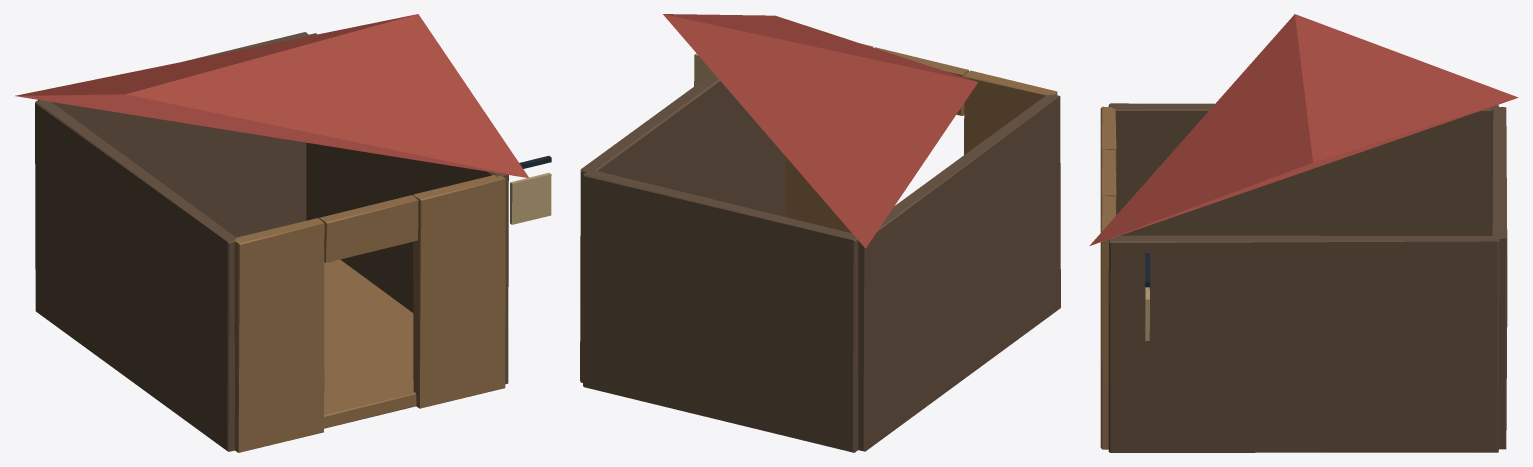
File: harbor-tavern.lod1.glb
3 renders of one model, left to right at view 1: azimuth 30°, elevation 25°; view 2: azimuth 150°, elevation 25°; view 3: azimuth 270°, elevation 25°, orthographic.
Parts seen in each view (by area): view 1: harbor-tavern__body, harbor-tavern__front-wall, harbor-tavern__roof; view 2: harbor-tavern__body, harbor-tavern__roof, harbor-tavern__front-wall; view 3: harbor-tavern__body, harbor-tavern__roof, harbor-tavern__front-wall.
Part boxes in pixels (box(x1,y1,x2,y2)): harbor-tavern__body: box(35, 32, 551, 451); harbor-tavern__front-wall: box(234, 175, 505, 452); harbor-tavern__roof: box(15, 14, 528, 177); harbor-tavern__body: box(580, 53, 1060, 452); harbor-tavern__roof: box(663, 14, 977, 248); harbor-tavern__front-wall: box(785, 44, 1057, 233); harbor-tavern__body: box(1108, 103, 1507, 452); harbor-tavern__roof: box(1089, 14, 1518, 245); harbor-tavern__front-wall: box(1100, 106, 1116, 449).
Size of the model in its own units: 5.24 by 4.18 by 5.5.
